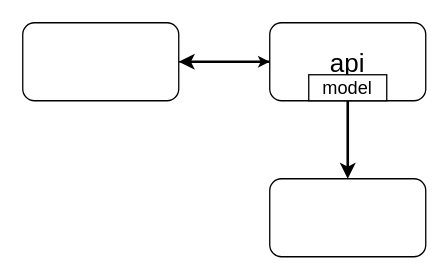
The diagram is 448 pixels wide and 280 high, and some of its shapes have lost their labels. Each missing label, with the centre of its shape:
"db" goes at point (347, 217).
"website" goes at point (100, 61).
